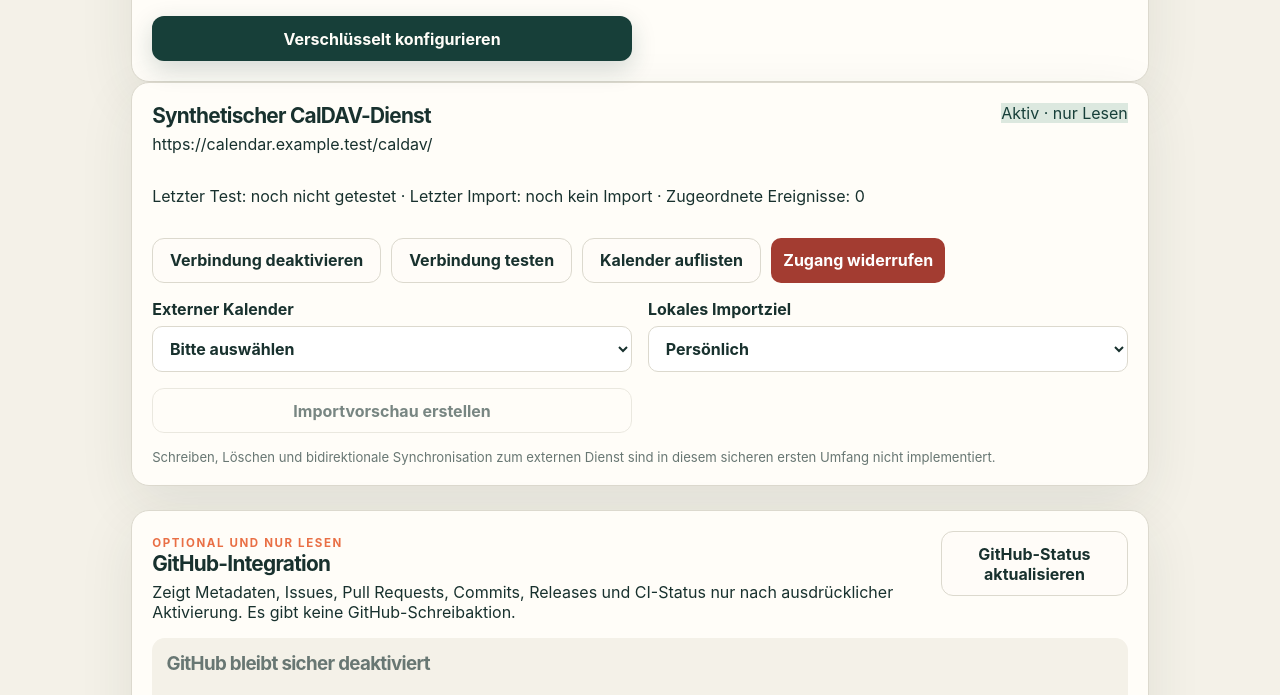
Test: optionale Integrationen › zeigt externe Konflikte vor dem Schreiben und blockiert den Commit
The image size is (1280, 695).
(page scrolled)
Select "Synthetischer Konfliktkalender" in the dropdown labelled "Externer Kalender". click: [392, 349]
box: [152,326,632,372]
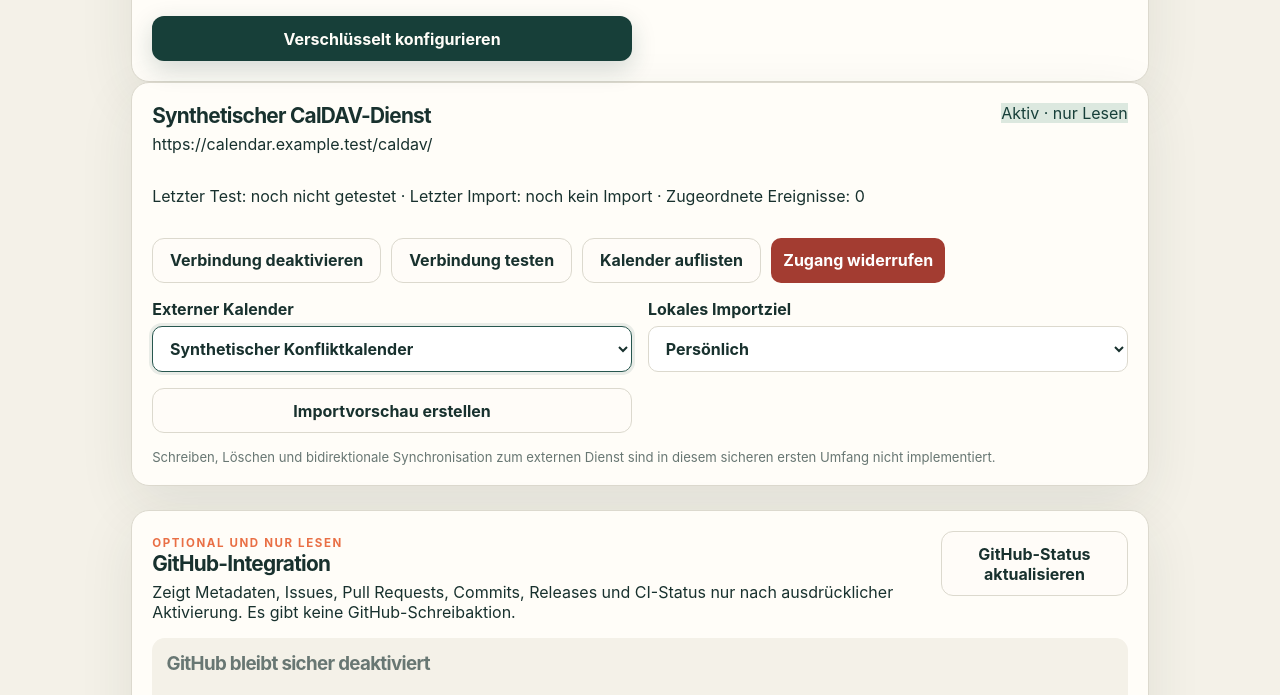
Click the button "Importvorschau erstellen". click: [392, 411]
box: [152,388,632,433]
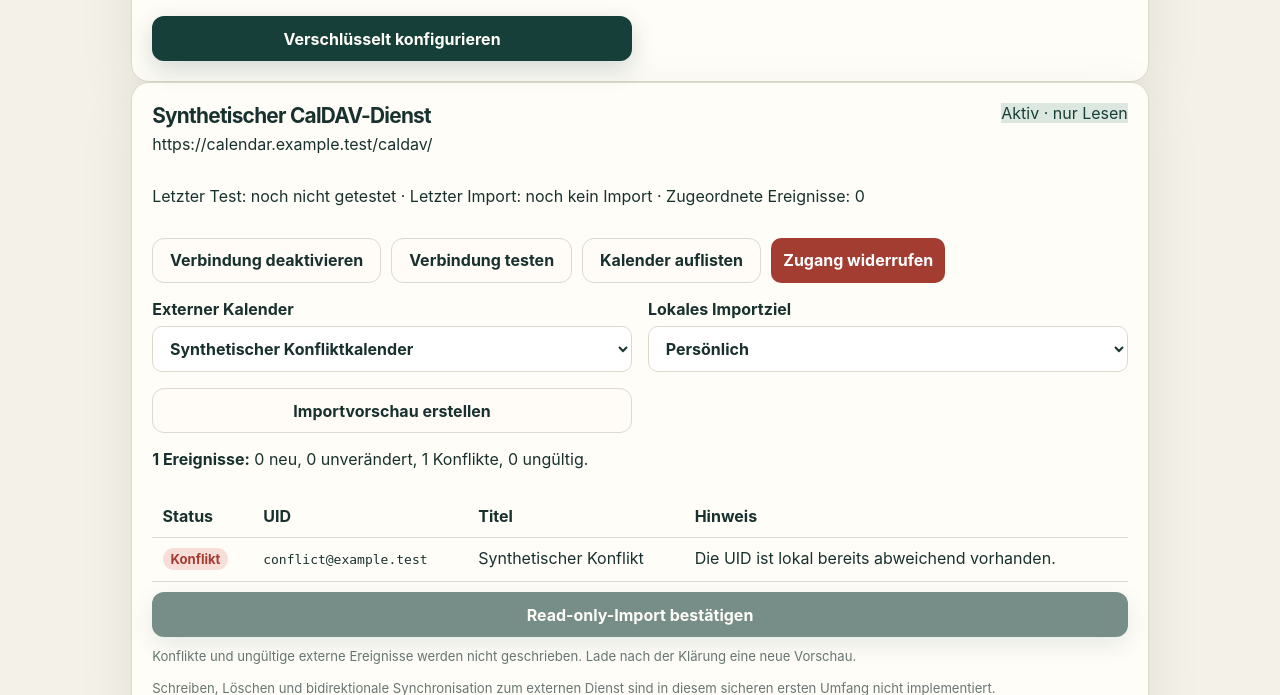
Now the text "Synthetischer Konflikt" is shown, box [468,537,684,581]
Now the text "Konflikt" is shown, box [163,548,228,570]
Now the button "Read-only-Import bestätigen" is disabled, box [152,592,1128,637]
